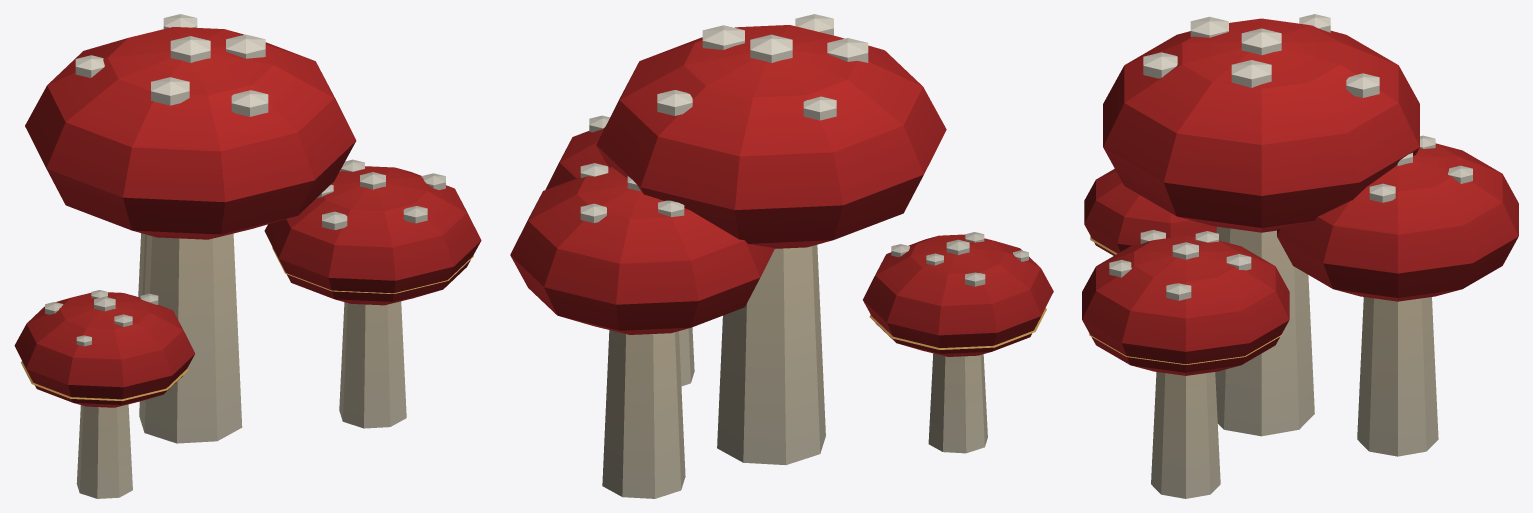
Rendered from toadstool_cluster.glb.
3 views of the same model, side by side, from view 1: azimuth 30°, elevation 25°; view 2: azimuth 150°, elevation 25°; view 3: azimuth 270°, elevation 25° (orthographic). The views are drawn at different scales.
Visible parts, largest first — view 1: toadstool_cluster; view 2: toadstool_cluster; view 3: toadstool_cluster.
Boxes of the visible parts, x1=… form: toadstool_cluster: x1=14, y1=14, x2=481, y2=498; toadstool_cluster: x1=510, y1=14, x2=1053, y2=498; toadstool_cluster: x1=1082, y1=14, x2=1518, y2=498.
Bounding box in the file's own units: 1.71 × 1.39 × 1.44.
